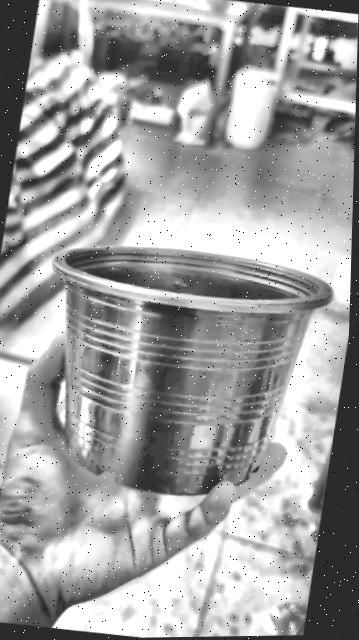pot: (16, 229, 336, 514), (51, 246, 330, 495)
